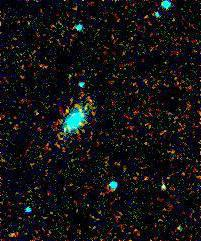star: (164, 213, 194, 241)
